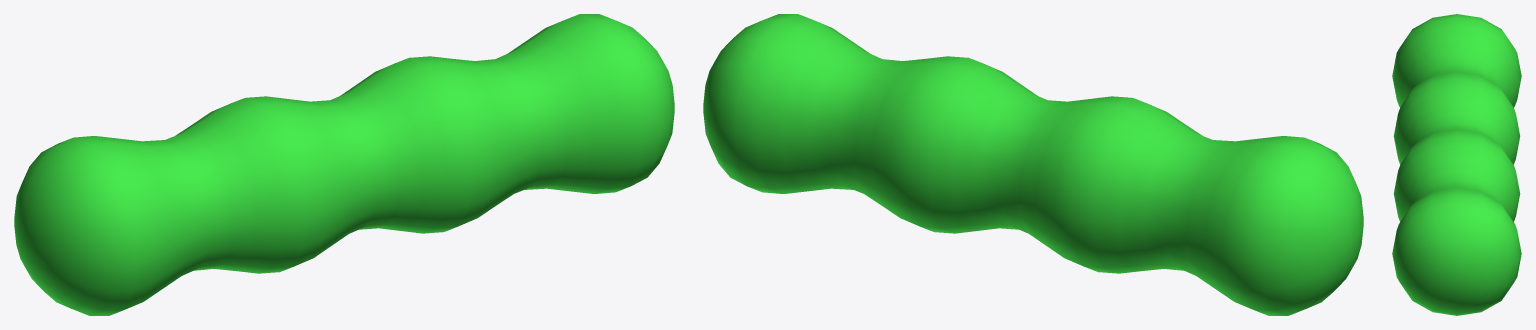
Rendered from Bush.fbx.
The picture shows the model from 3 angles, left to right: view 1: azimuth 30°, elevation 25°; view 2: azimuth 150°, elevation 25°; view 3: azimuth 270°, elevation 25°; orthographic projection. The views are drawn at different scales.
Parts seen in each view (by area): view 1: Bush; view 2: Bush; view 3: Bush.
Part boxes in pixels (x1,y1,x2,y2): Bush: (14, 14, 674, 315); Bush: (703, 14, 1363, 315); Bush: (1392, 14, 1521, 315).
Bounding box in the file's own units: 3.91 × 0.9597 × 0.9597.
